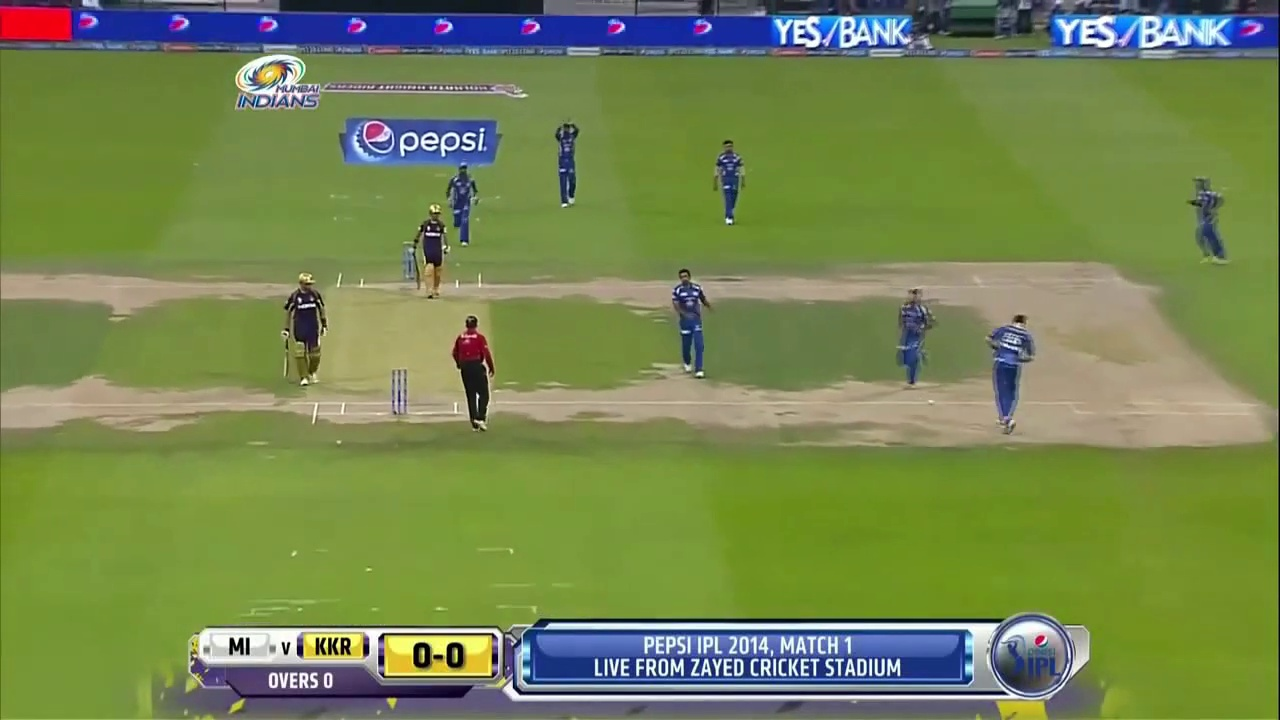bat: (413, 255, 421, 289), (284, 343, 290, 378)
stumps: (390, 366, 408, 416)
